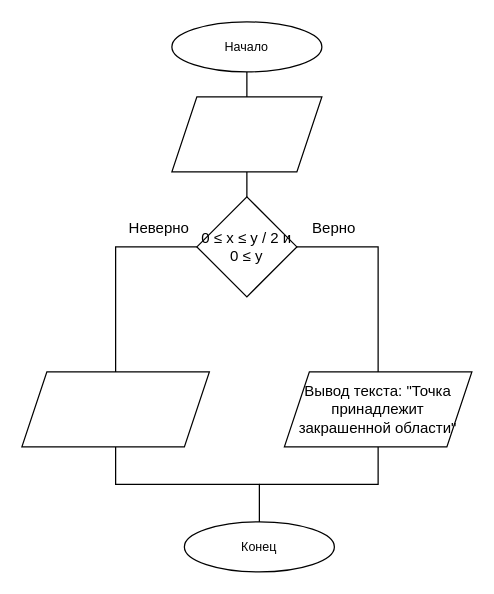
Image size: 494x594. Some labels were removed from this diagram. The shapes that lost their labels are listed below. From the top down, each one's centre as x and y in pixels, then its label:
point (246, 134): Ввод значений точки в x, a
point (115, 409): Вывод текста: "Точка не принадлежит закрашенной области"
